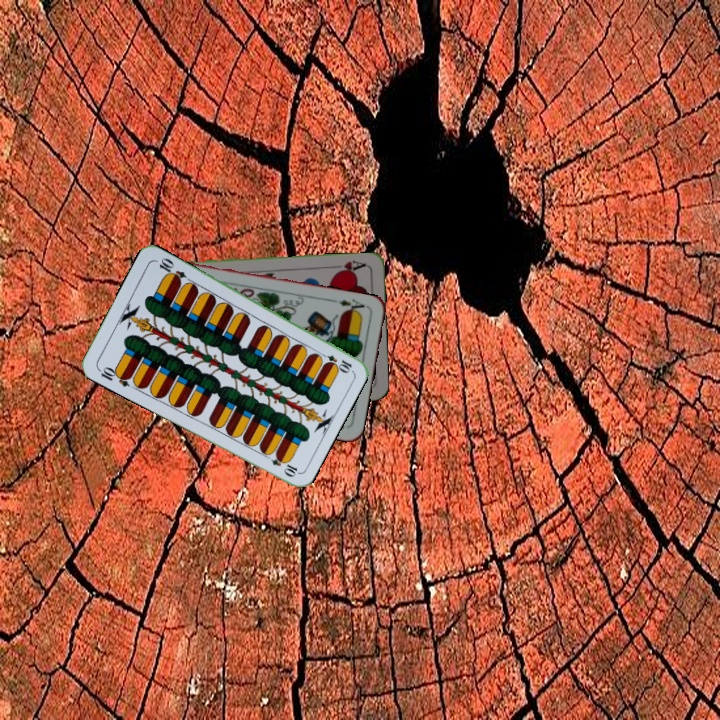E10: (94, 362, 134, 390), (315, 349, 354, 374)
EA: (335, 295, 367, 316)
HA: (328, 257, 369, 276)
